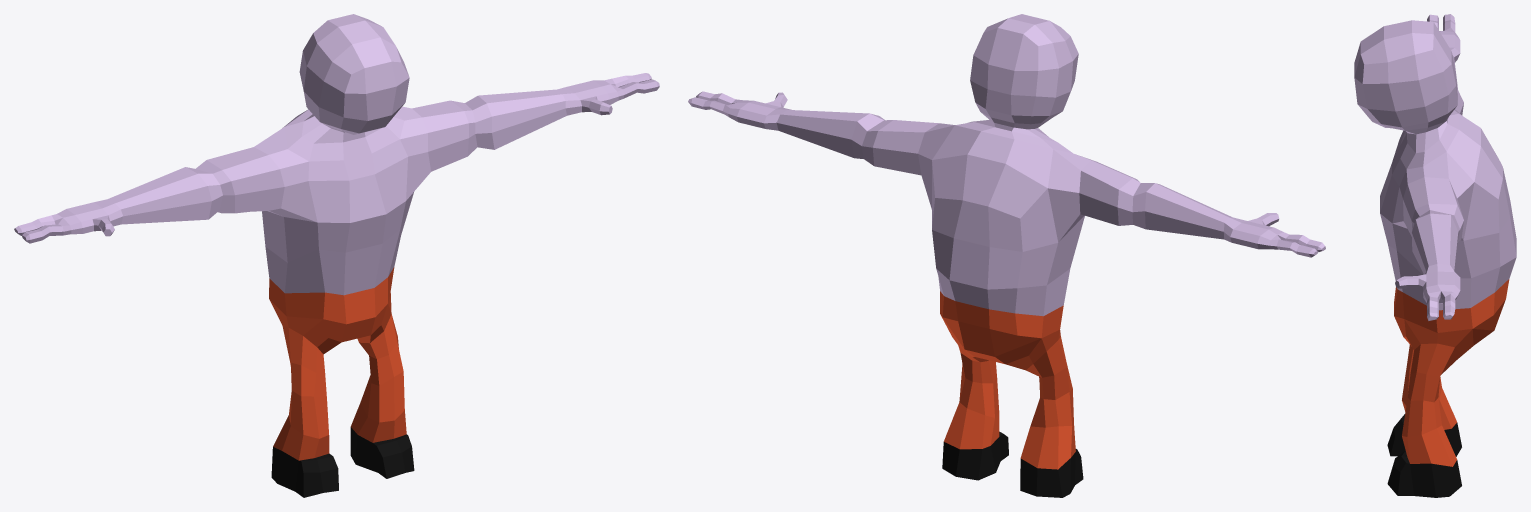
The model's file is bigmonster_colored.fbx.
The picture shows the model from 3 angles, left to right: view 1: azimuth 30°, elevation 25°; view 2: azimuth 150°, elevation 25°; view 3: azimuth 270°, elevation 25°; orthographic projection. The views are drawn at different scales.
Visible parts, largest first — view 1: Cube.003; view 2: Cube.003; view 3: Cube.003.
Boxes of the visible parts, left/top/right/bottom form: Cube.003: left=14, top=14, right=659, bottom=497; Cube.003: left=688, top=14, right=1325, bottom=497; Cube.003: left=1354, top=14, right=1516, bottom=497.
Size of the model in its own units: 533 by 366 by 122.
